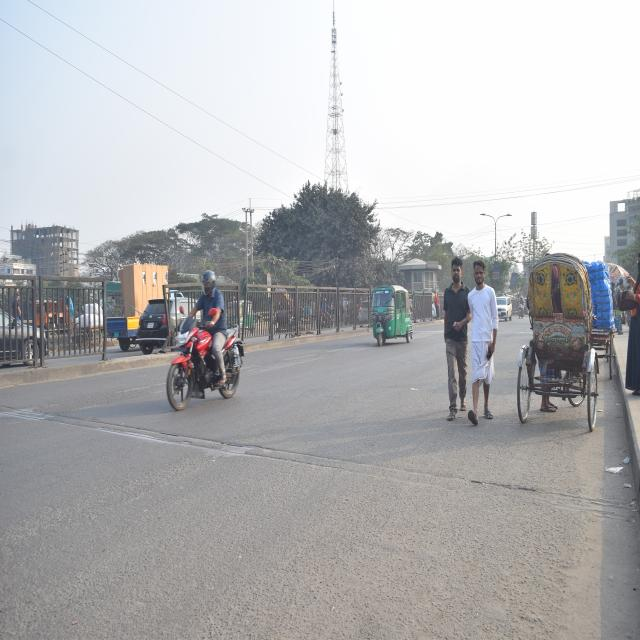car: (496, 290, 515, 323)
motorbike: (159, 302, 248, 423), (515, 292, 527, 330)
